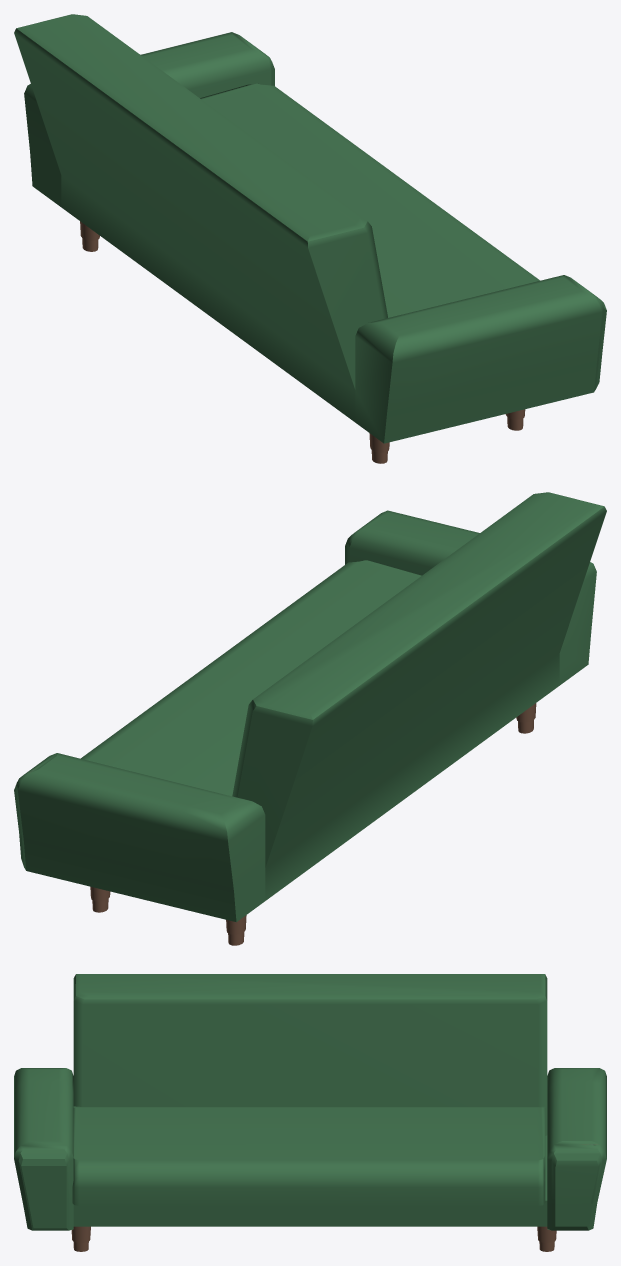
The model's file is canap.fbx.
3 views of the same model, one above another, from view 1: azimuth 30°, elevation 25°; view 2: azimuth 150°, elevation 25°; view 3: azimuth 270°, elevation 25° (orthographic). The views are drawn at different scales.
Visible parts, largest first — view 1: pCylinder6; view 2: pCylinder6; view 3: pCylinder6.
Part boxes in pixels (<box>): pCylinder6: <box>14,14,606,463</box>; pCylinder6: <box>14,492,606,945</box>; pCylinder6: <box>14,974,606,1251</box>.
Bounding box in the file's own units: 528 × 458 × 1266.
